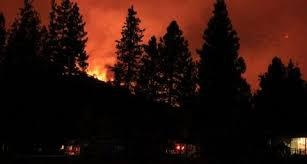fire: (84, 60, 111, 83)
